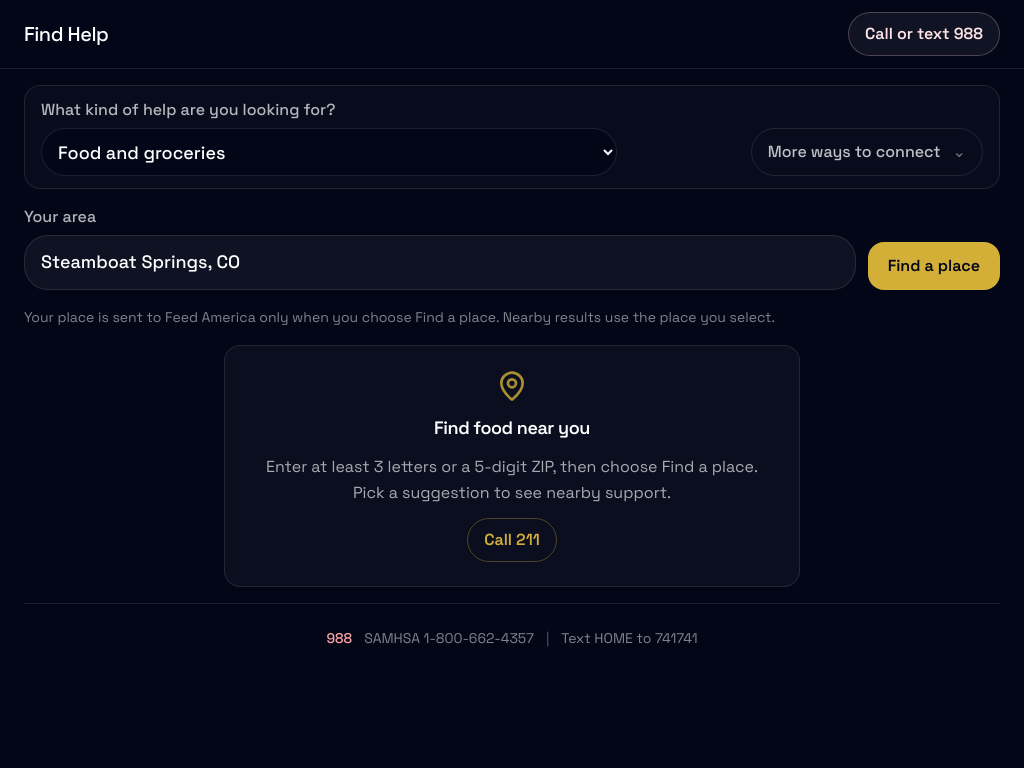
Scenario: real-world assistance search states › gives a useful no-match next step after a successful nearby food search
Click the button "Find a place".
click(934, 266)  # box [868, 242, 1000, 290]
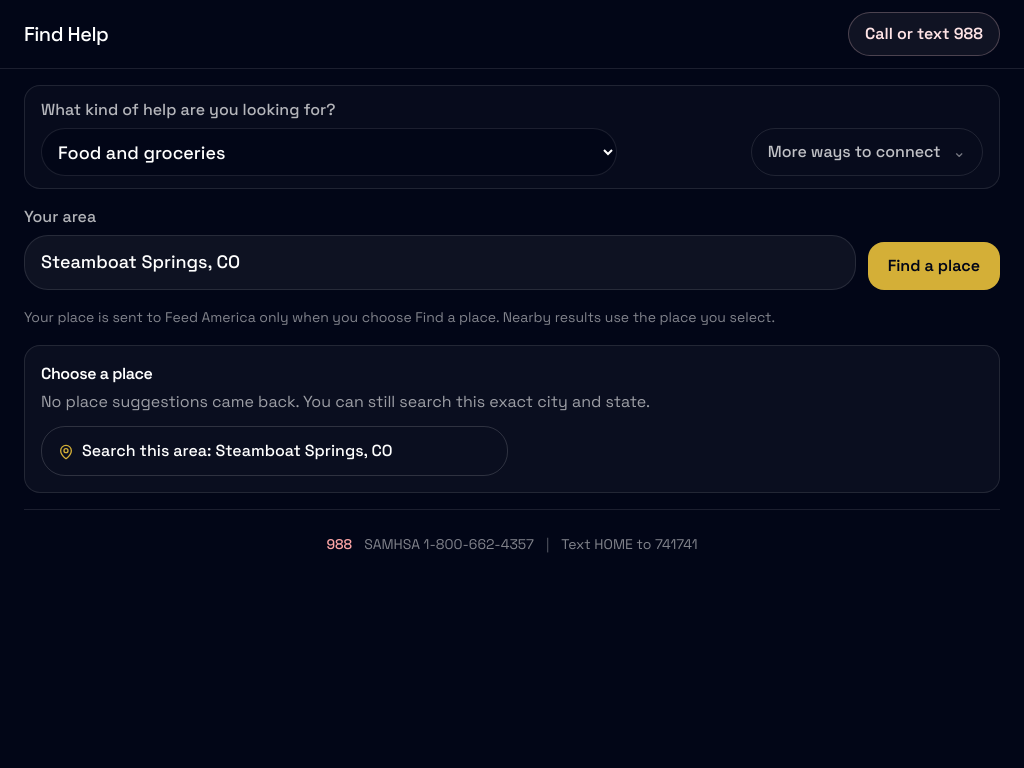
Click the button "Search this area: Steamboat Springs, CO".
click(274, 450)  # box [41, 426, 508, 476]
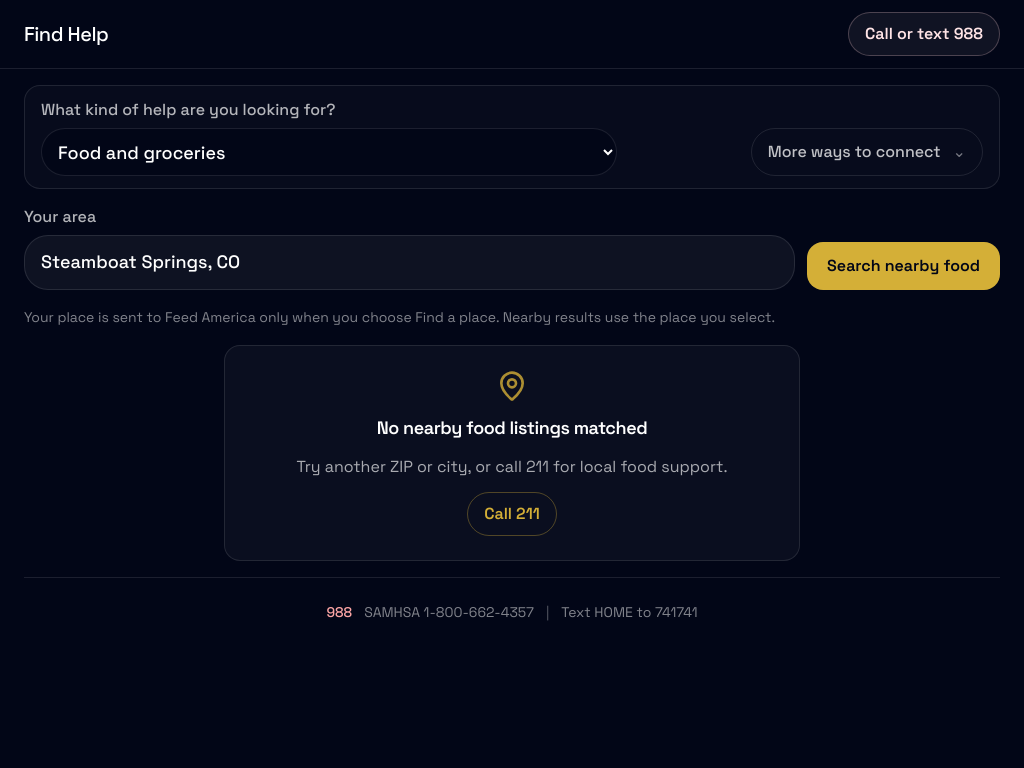
Expected: the heading "No nearby food listings matched" is shown, [377, 414, 647, 442]
Expected: the text "Try another ZIP or city, or call 211 for local food support." is shown, [296, 454, 727, 480]
